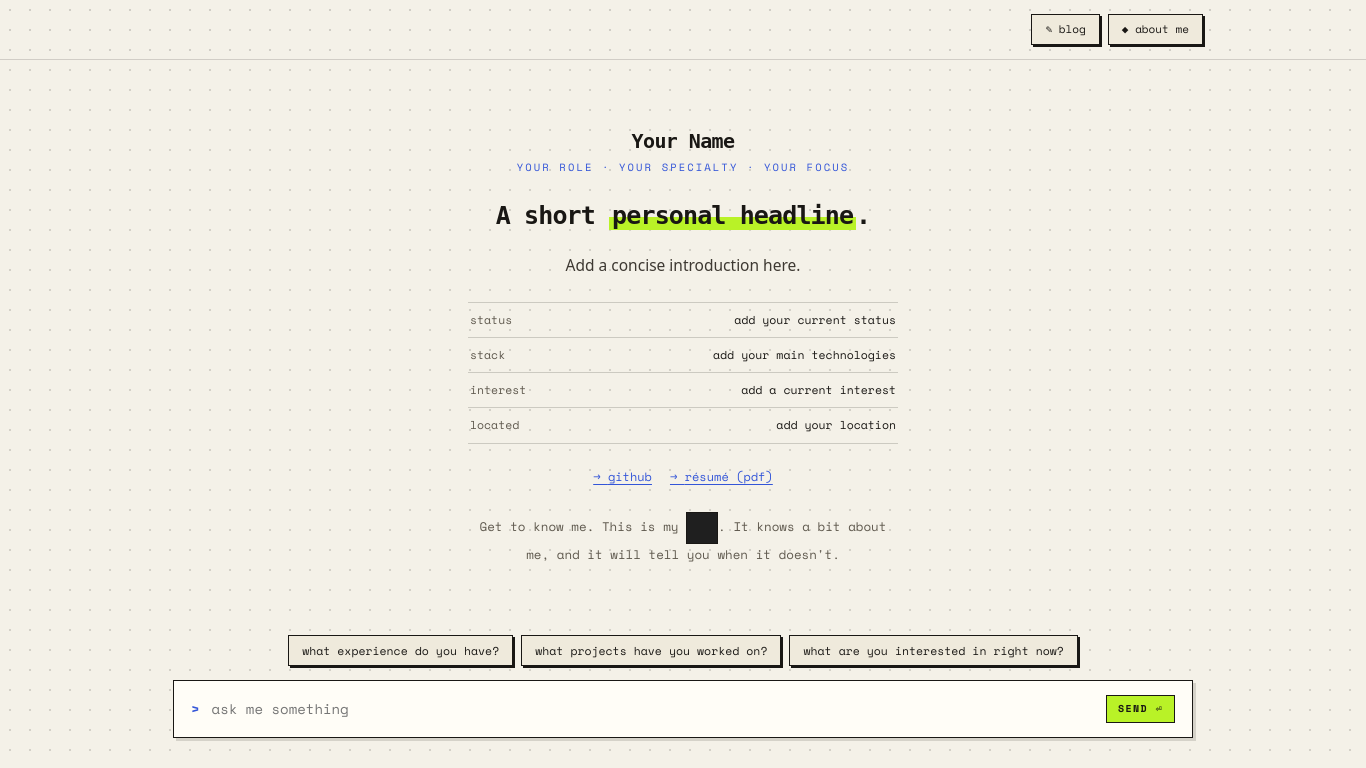
App › shows the name and "start over" once the conversation has started
What coordinates should you click on to do the following:
click the button "what experience do you have?"
I would click on:
 (401, 650)
Its box is [288, 634, 513, 666].
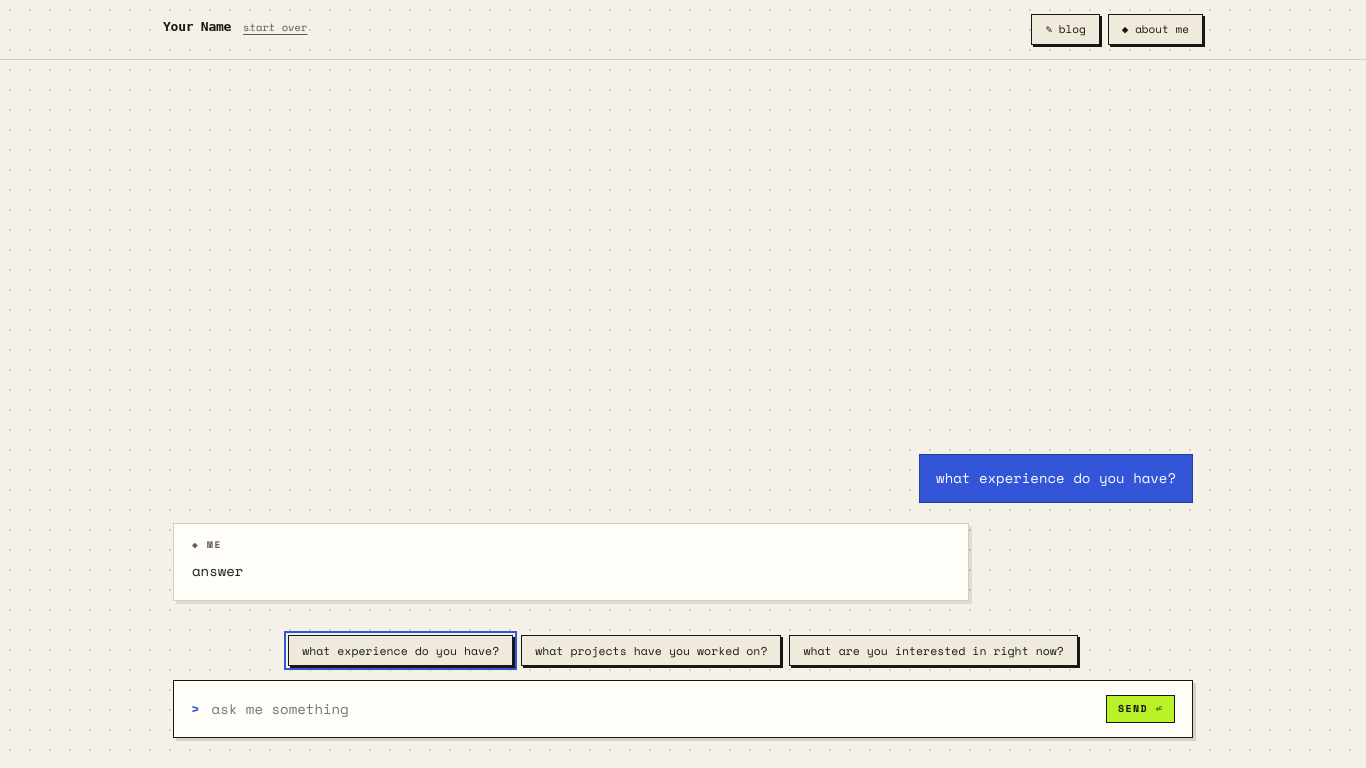
Expected: the text "answer" is shown, [192, 560, 243, 581]
Expected: the header shows "Your Name", [163, 18, 231, 34]
Expected: the button "start over" is shown, [243, 22, 307, 32]
